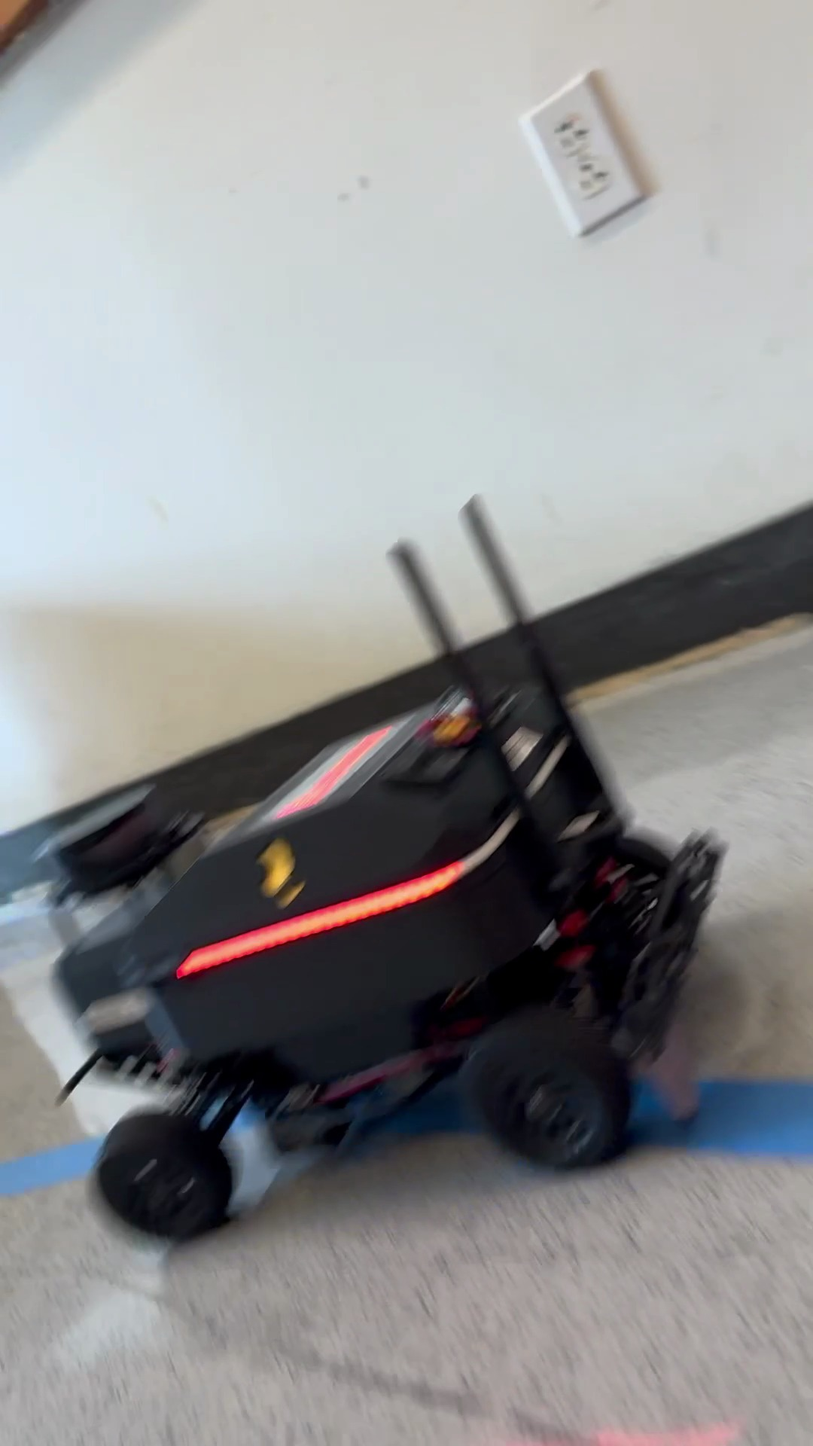racecar: (28, 508, 725, 1232)
